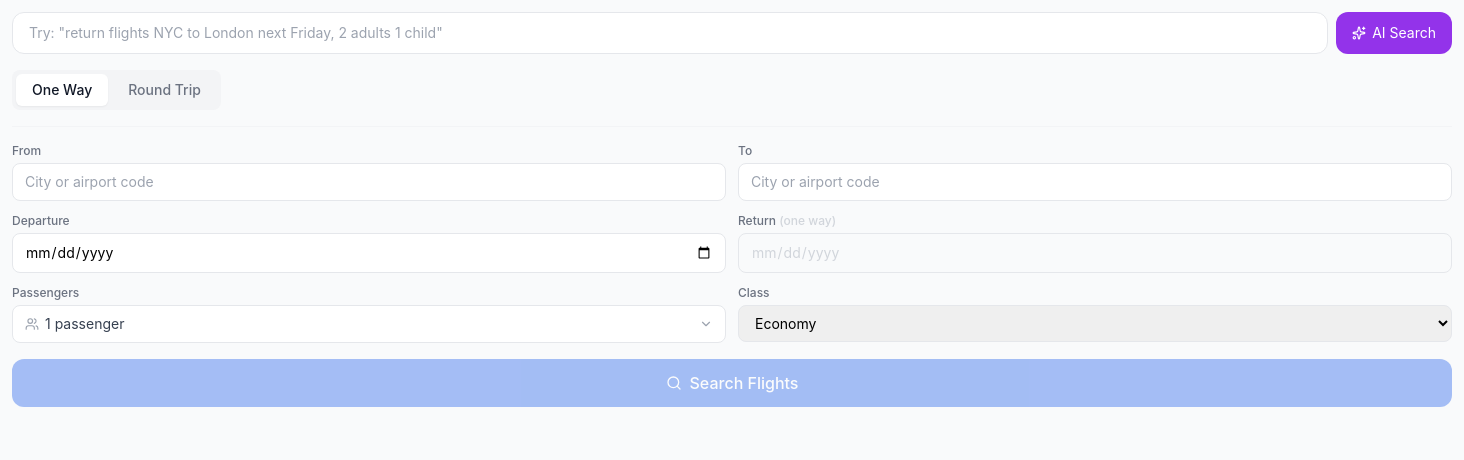
Scenario: SearchForm — NL search › shows error when fetch throws
This screenshot has width=1464, height=460.
Replace the text in the field with placeholder "Try:" with "query" at (670, 33), box [12, 12, 1328, 54]
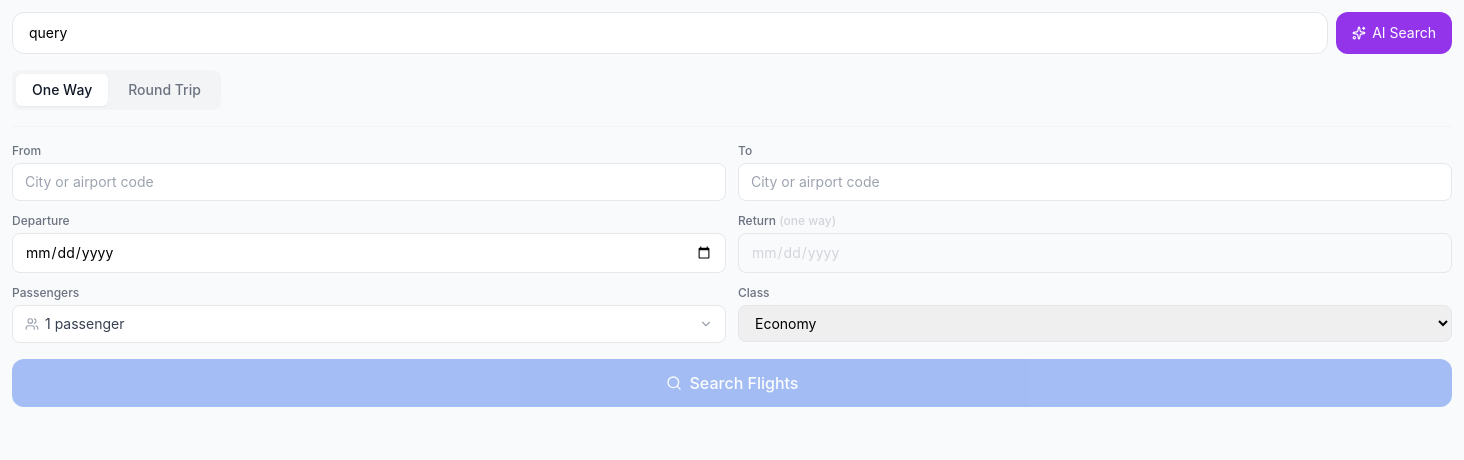
Click the button "AI Search" at (1394, 33), box [1336, 12, 1452, 54]
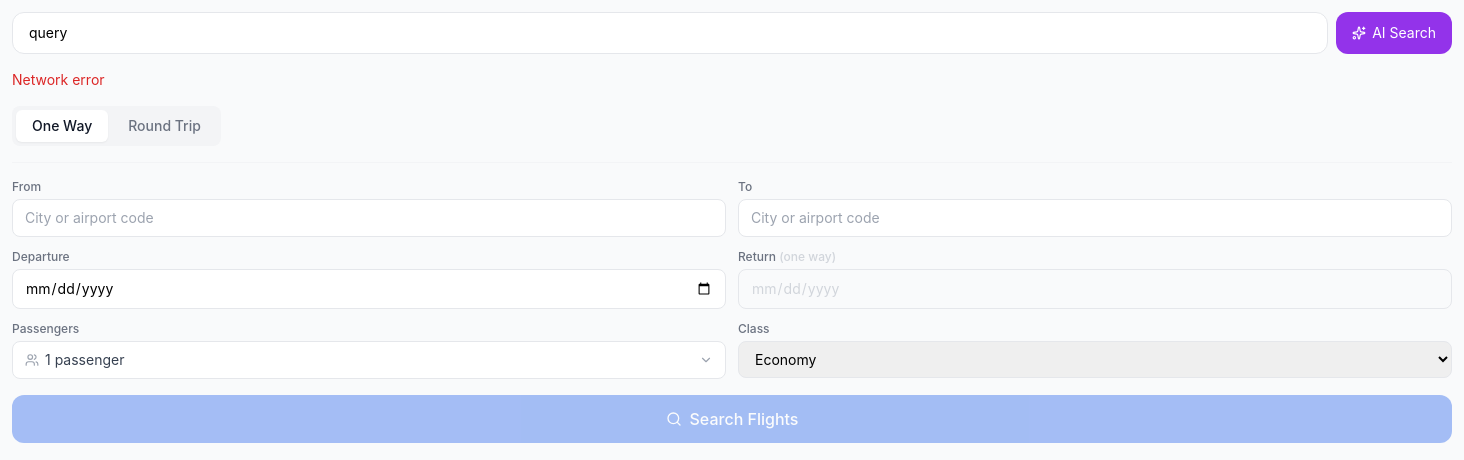
Check: the text "Network error" is shown, box [12, 71, 105, 88]
